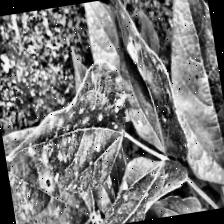Bean Rust: (2, 47, 141, 206), (91, 0, 192, 174), (154, 0, 224, 186), (0, 107, 101, 224), (64, 150, 194, 224)
